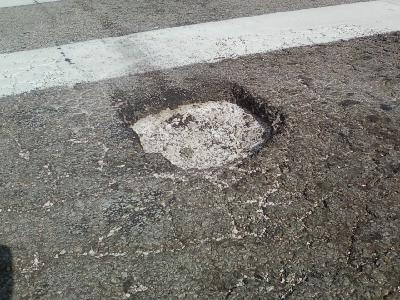pothole: (117, 78, 287, 177)
